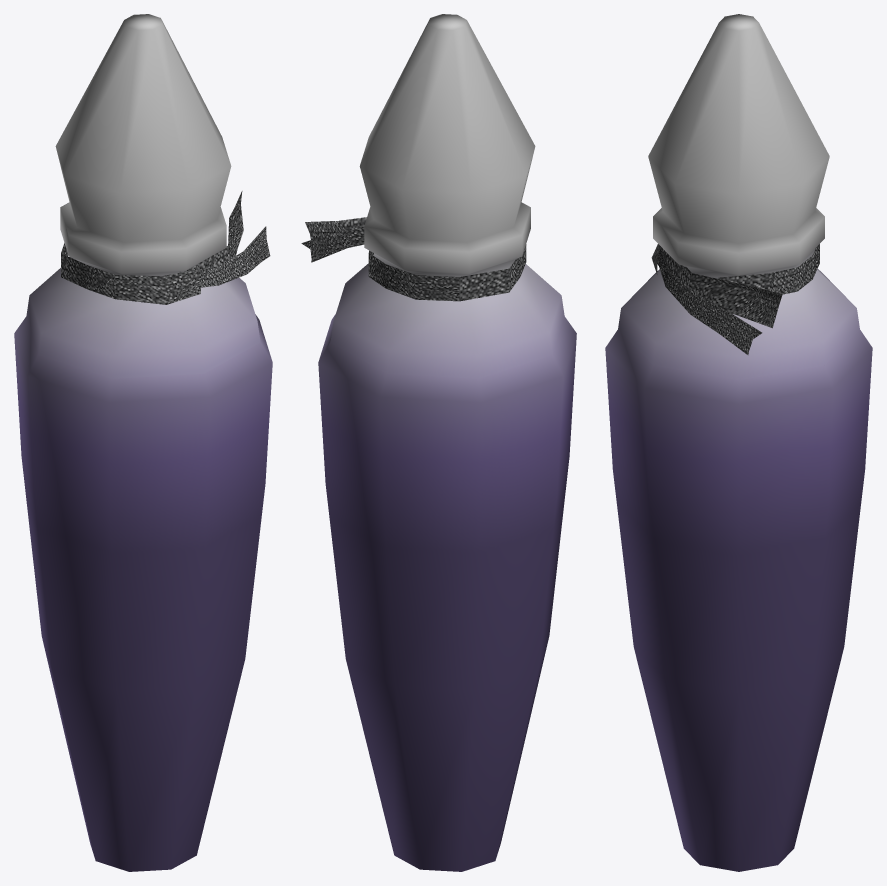
Rendered from item_potion.fbx.
The picture shows the model from 3 angles, left to right: view 1: azimuth 30°, elevation 25°; view 2: azimuth 150°, elevation 25°; view 3: azimuth 270°, elevation 25°; orthographic projection.
Parts seen in each view (by area): view 1: item_potion1; view 2: item_potion1; view 3: item_potion1.
Part boxes in pixels (<box>): item_potion1: <box>14,14,272,871</box>; item_potion1: <box>301,14,576,871</box>; item_potion1: <box>605,14,872,871</box>.
Bounding box in the file's own units: 15.54 × 49.05 × 14.39.
1 material, 1 textured.
